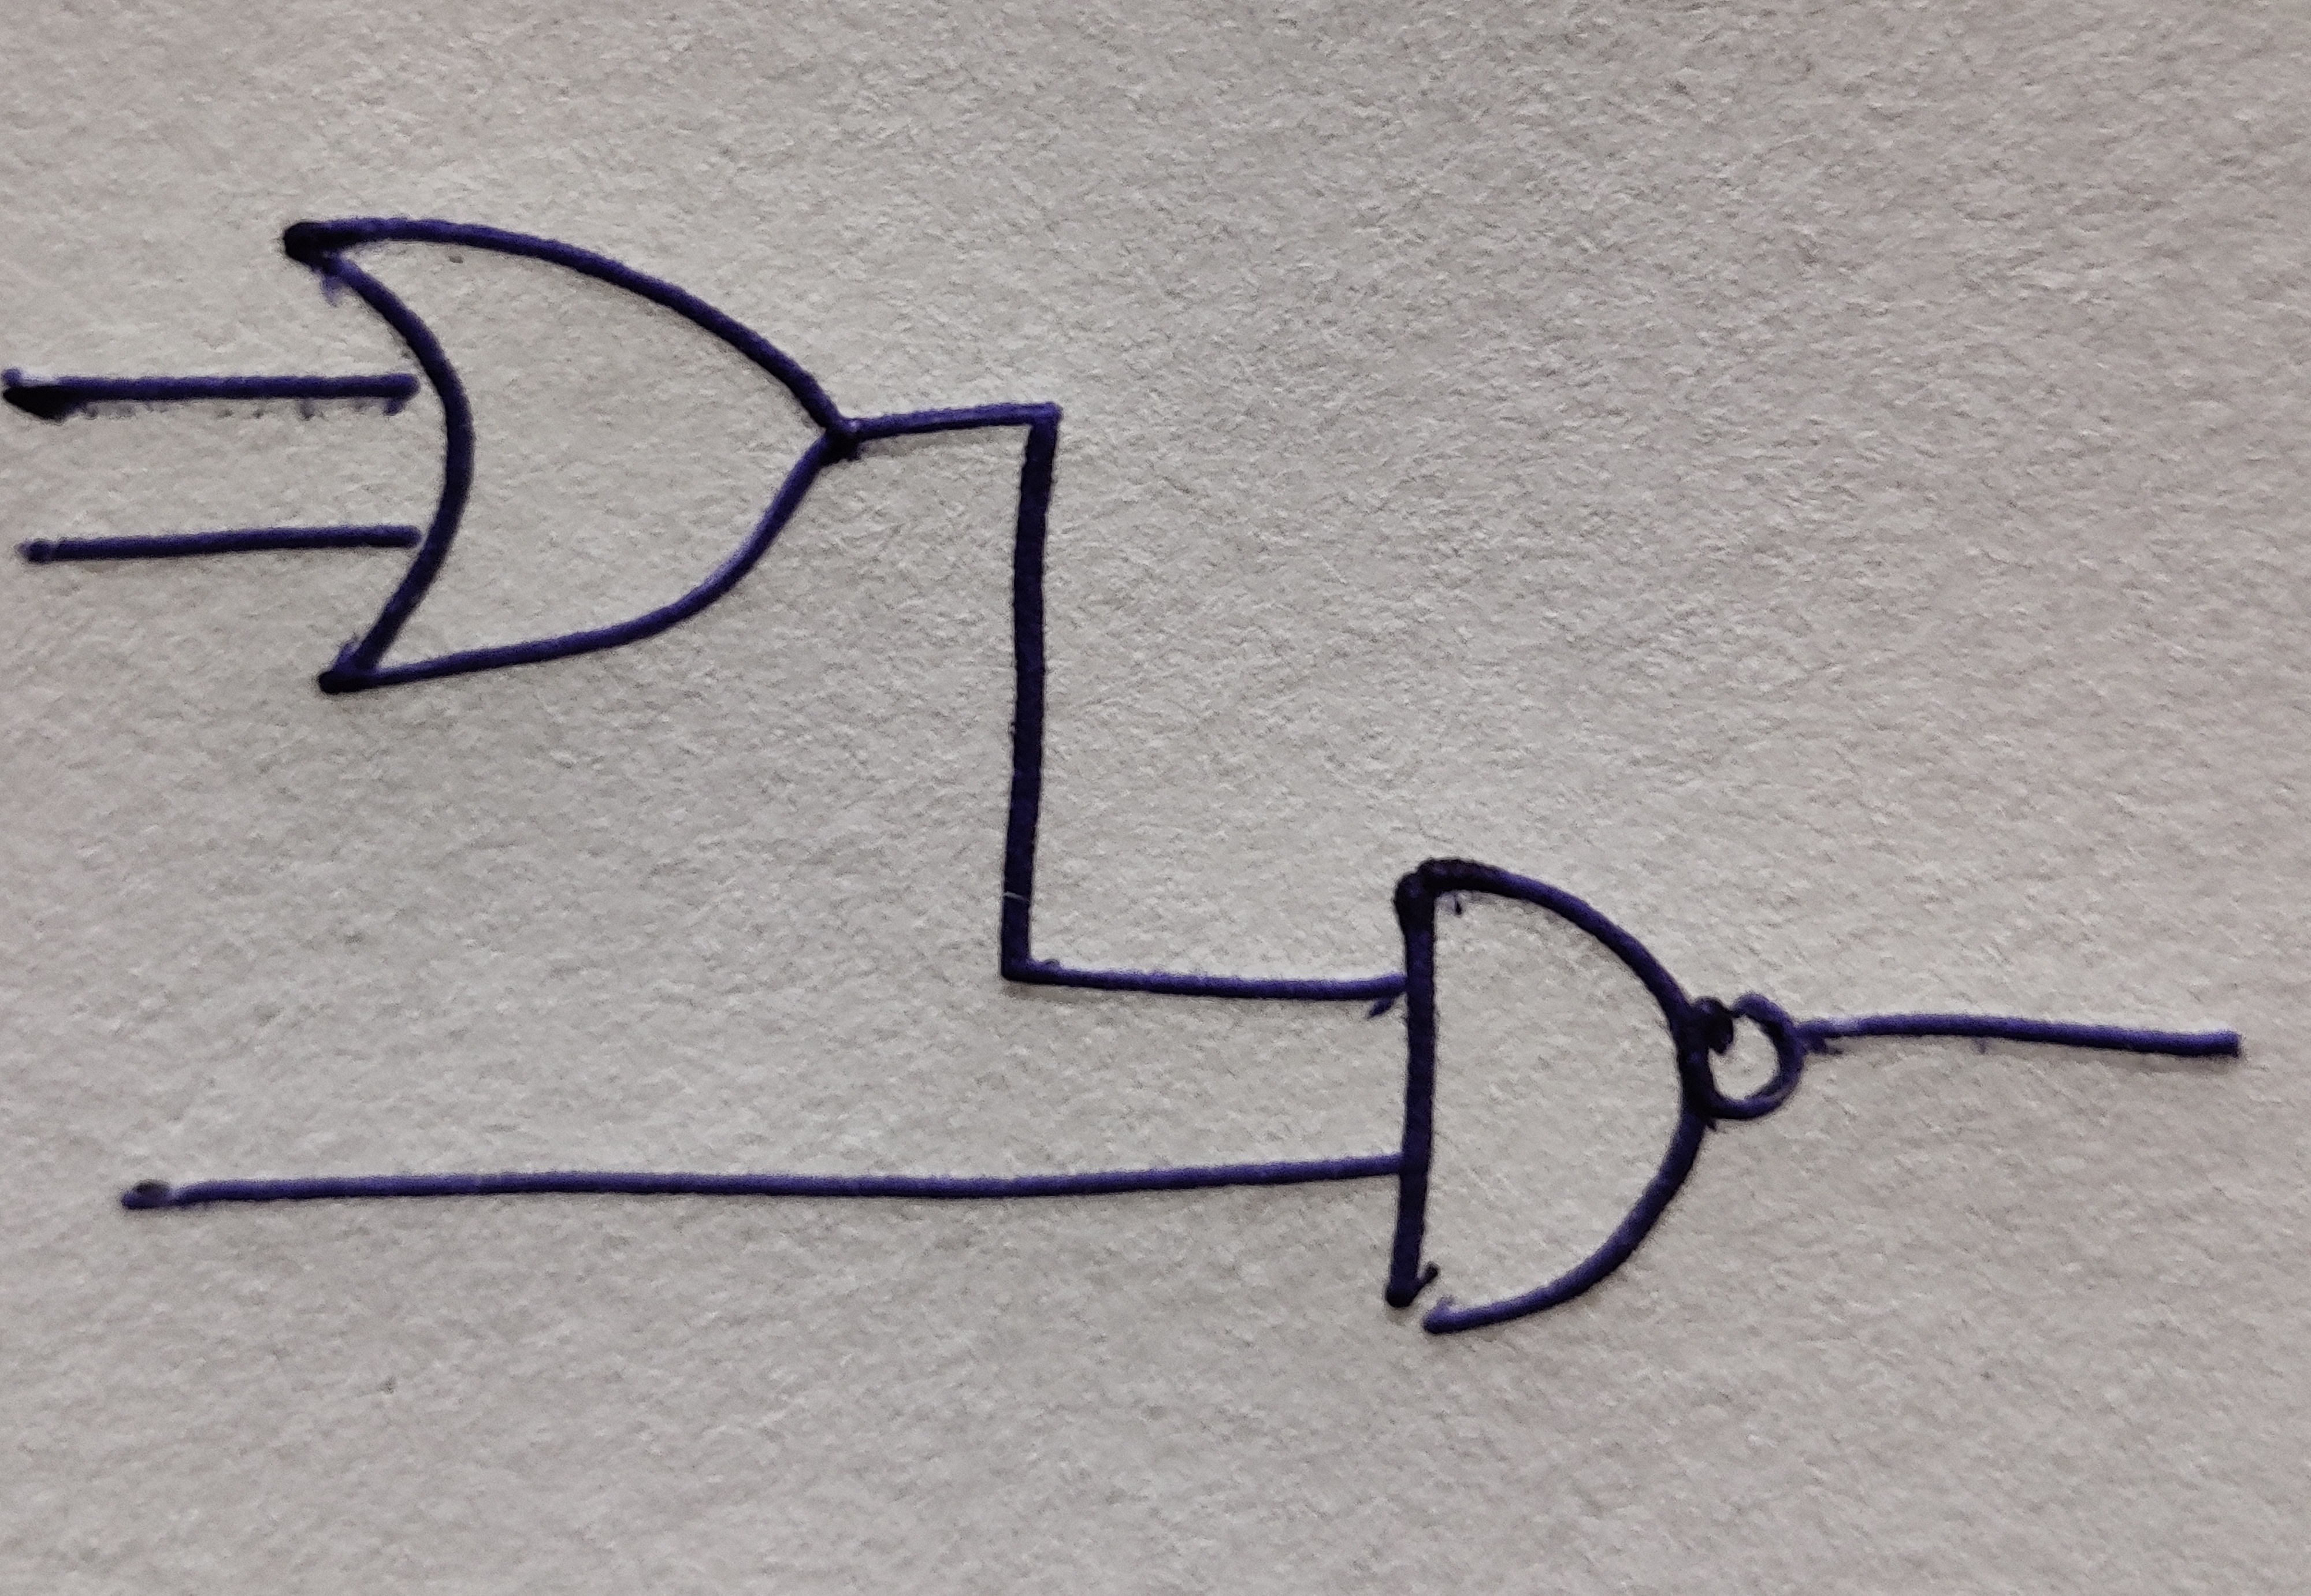and: (1386, 859, 1709, 1338)
not: (1695, 994, 1805, 1122)
or: (283, 219, 860, 694)
